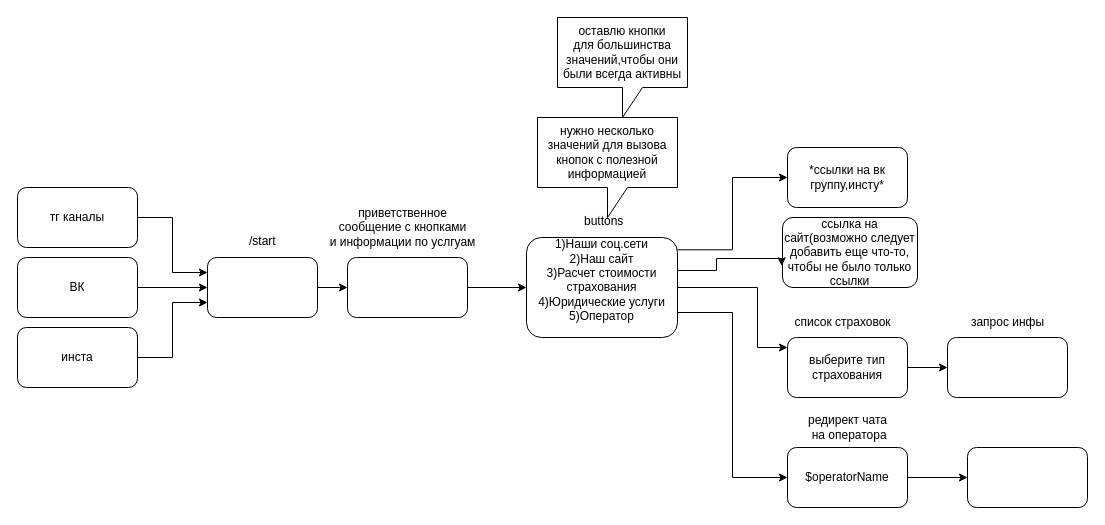
Image size: 1105x525. Some labels were removed from this diagram. The shapes that lost their labels are listed below. From the top down, each one's box as (x1, y1, x2, y2) in pixels, then its label:
(206, 256, 318, 318): инициализация диалога с бота
(346, 256, 468, 318): Добрый день.Я бот компании $name
(946, 336, 1068, 398): $massage = предоставьте следующую информацию
(966, 446, 1088, 508): закрытие диалога с самим ботом
